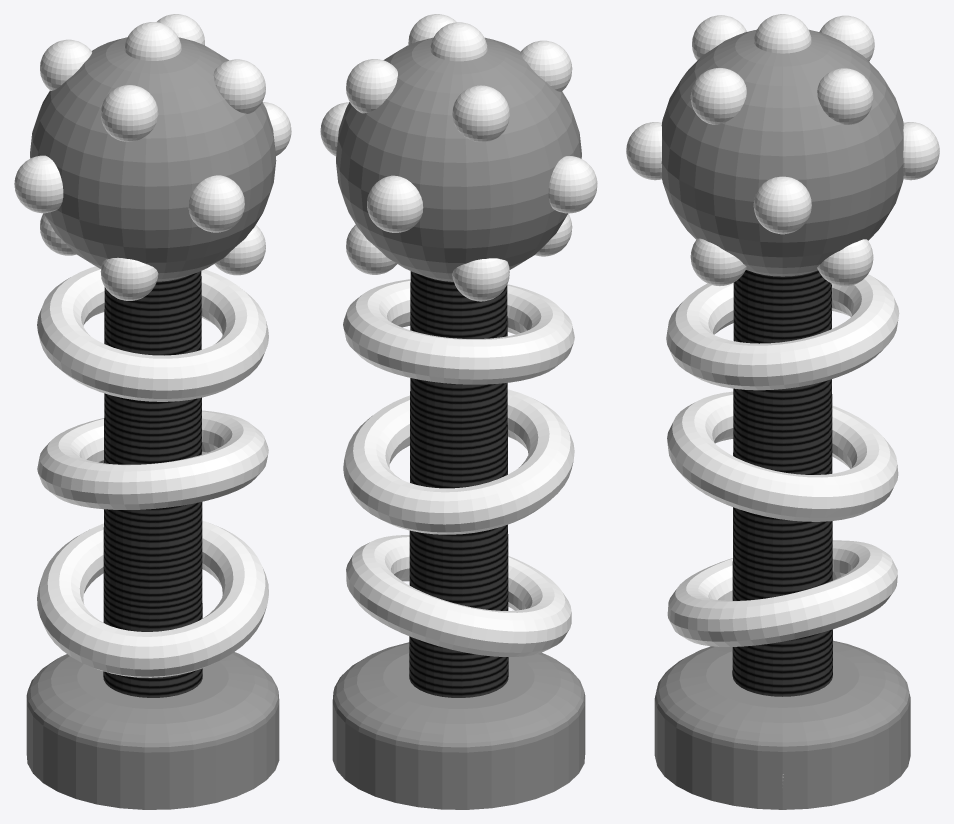
File: tower_tesla.obj
3 views of the same model, side by side, from view 1: azimuth 30°, elevation 25°; view 2: azimuth 150°, elevation 25°; view 3: azimuth 270°, elevation 25° (orthographic).
Parts seen in each view (by area): view 1: Cylinder; view 2: Cylinder; view 3: Cylinder.
Part boxes in pixels (x1,y1,x2,y2): Cylinder: [14, 14, 291, 809]; Cylinder: [320, 14, 597, 809]; Cylinder: [626, 14, 939, 809].
Size of the model in its own units: 4.91 by 12.75 by 4.9.
1 material, 1 textured.
